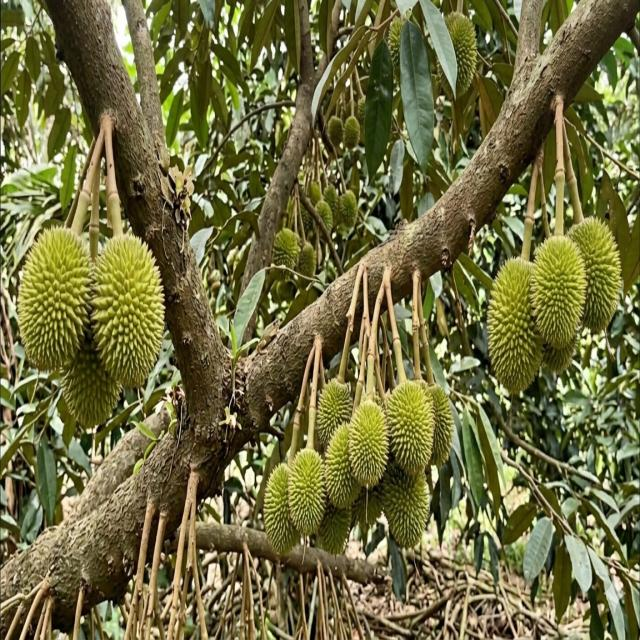immature: (89, 231, 166, 390), (17, 224, 94, 374), (486, 257, 542, 392), (528, 234, 584, 350), (570, 215, 622, 332), (61, 331, 122, 430), (385, 378, 434, 470), (380, 464, 430, 549), (348, 398, 390, 484), (439, 11, 479, 100), (287, 446, 327, 534), (263, 462, 299, 554), (322, 423, 358, 509), (316, 376, 354, 451), (316, 500, 351, 554), (351, 482, 383, 541), (272, 227, 300, 270), (387, 15, 405, 75), (338, 188, 358, 231), (321, 182, 338, 226), (342, 112, 361, 150), (314, 198, 332, 238), (299, 194, 315, 238), (298, 242, 316, 280), (434, 58, 451, 98), (327, 114, 344, 150), (348, 159, 360, 200), (276, 278, 293, 304), (356, 96, 367, 132), (308, 180, 322, 208), (336, 97, 346, 130)
